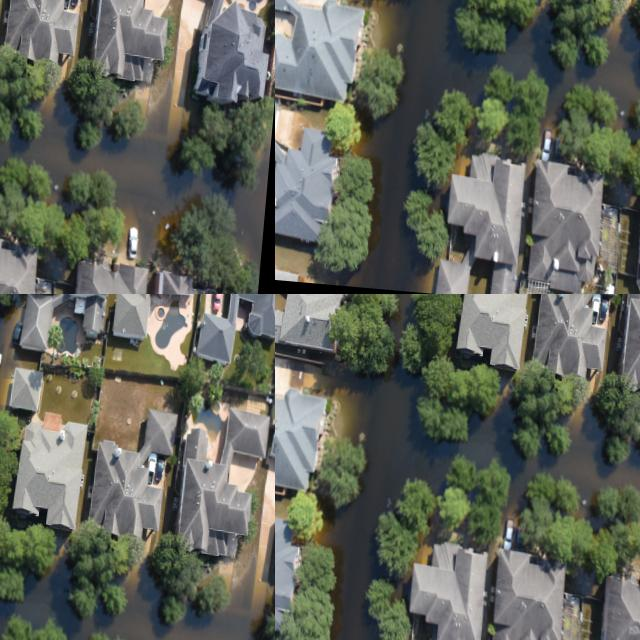fire: (318, 356, 589, 640), (511, 405, 640, 509)
